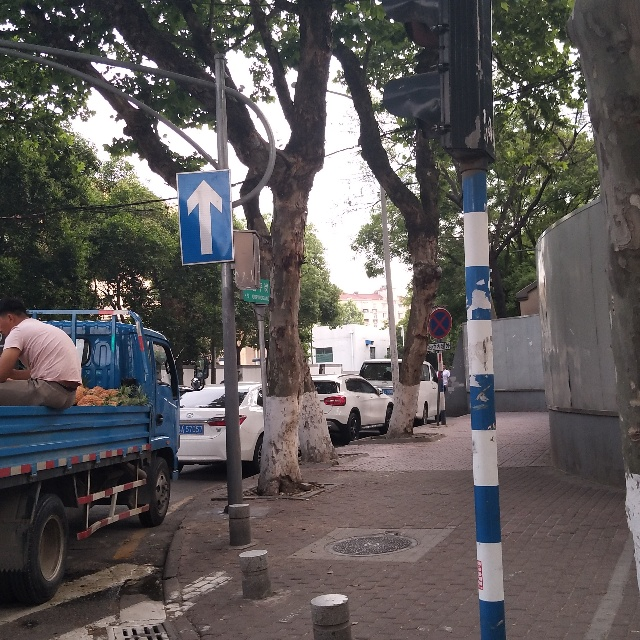stop: (431, 310, 451, 337)
straight: (179, 171, 230, 261)
